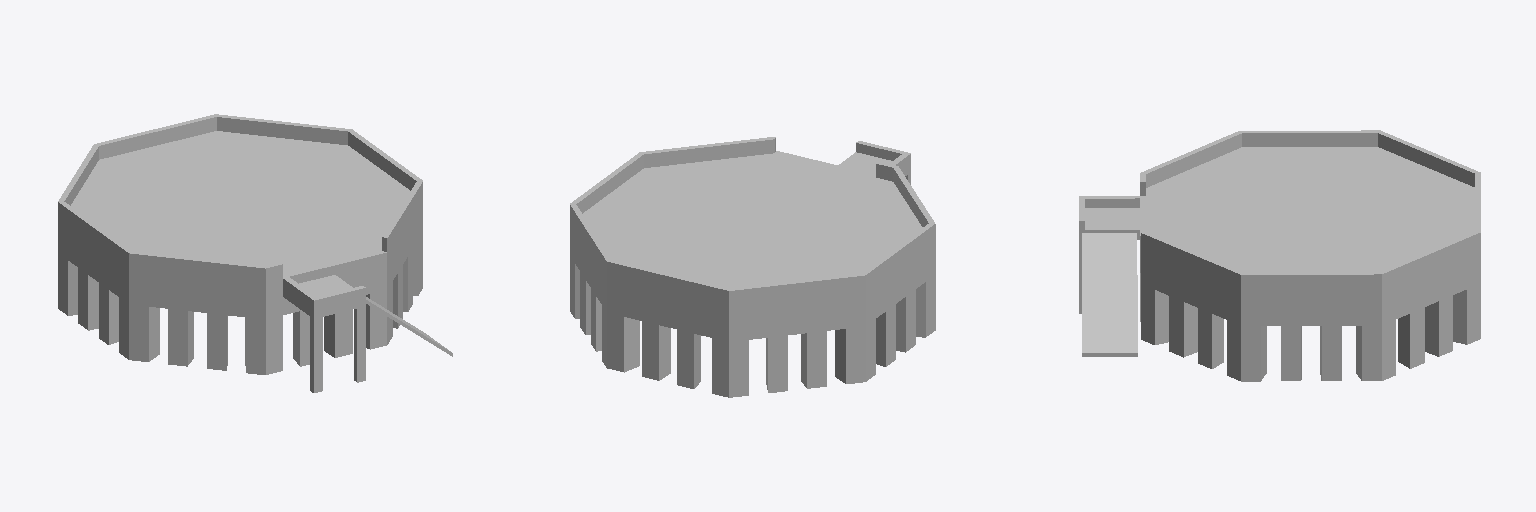
The model's file is baza.obj.
3 views of the same model, side by side, from view 1: azimuth 30°, elevation 25°; view 2: azimuth 150°, elevation 25°; view 3: azimuth 270°, elevation 25° (orthographic).
Visible parts, largest first — view 1: baza_Куб; view 2: baza_Куб; view 3: baza_Куб.
Boxes of the visible parts, x1=… form: baza_Куб: x1=58, y1=114, x2=452, y2=392; baza_Куб: x1=570, y1=137, x2=935, y2=397; baza_Куб: x1=1079, y1=130, x2=1480, y2=381.
Bounding box in the file's own units: 16.66 × 5.75 × 19.66.